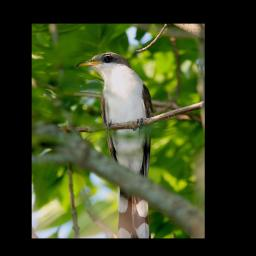Cuckoo: (74, 50, 155, 238)
